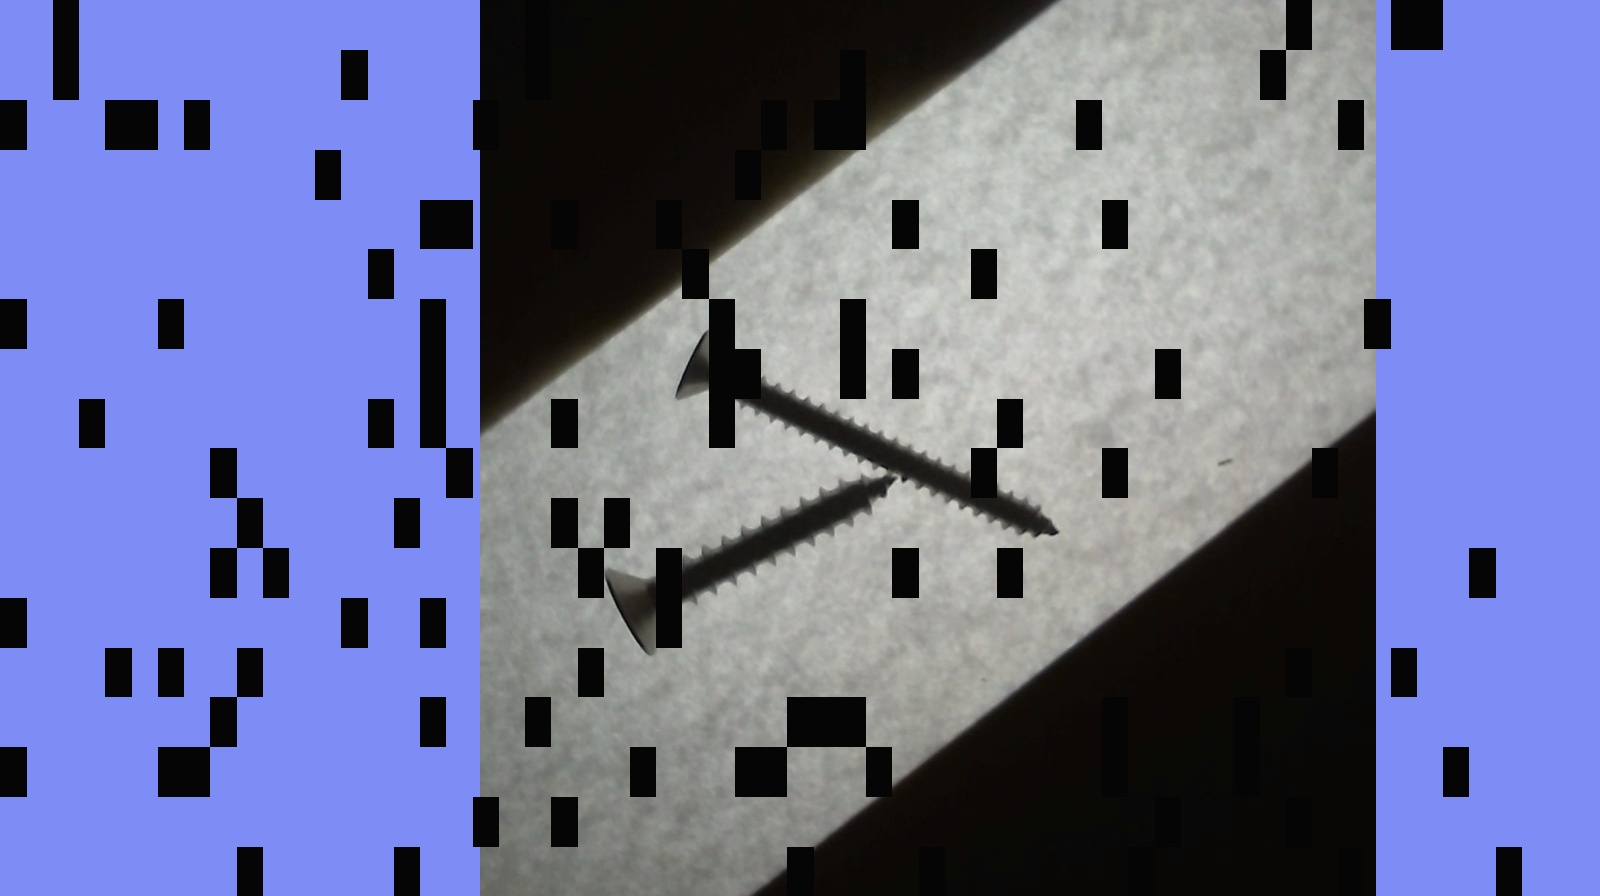S001: (603, 468, 900, 662)
S002: (674, 327, 1064, 535)
